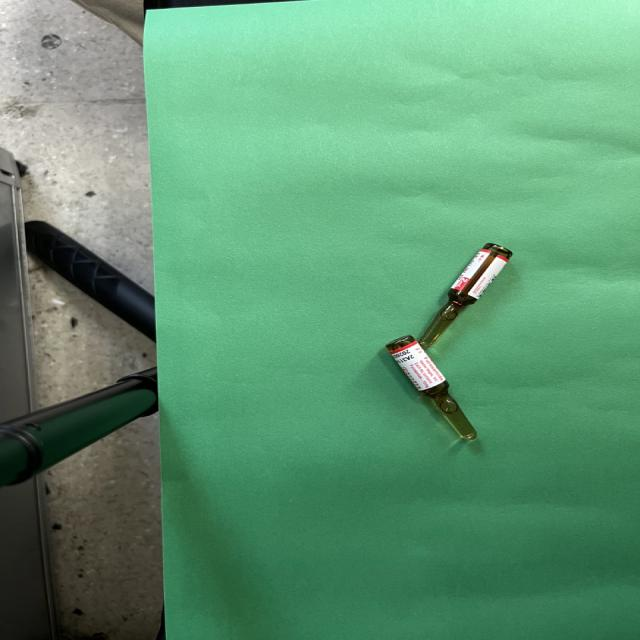Ampoules: (419, 243, 513, 350), (386, 335, 477, 441)
